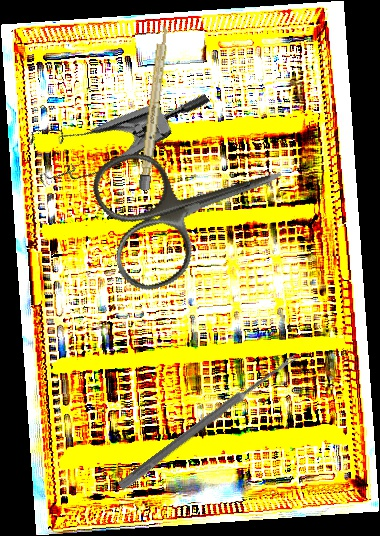Iris Scissors: (85, 110, 304, 298)
Scalpel Handle: (138, 24, 170, 191)
Speculum: (13, 32, 211, 217)
Surgical Spoon: (117, 351, 299, 492)
